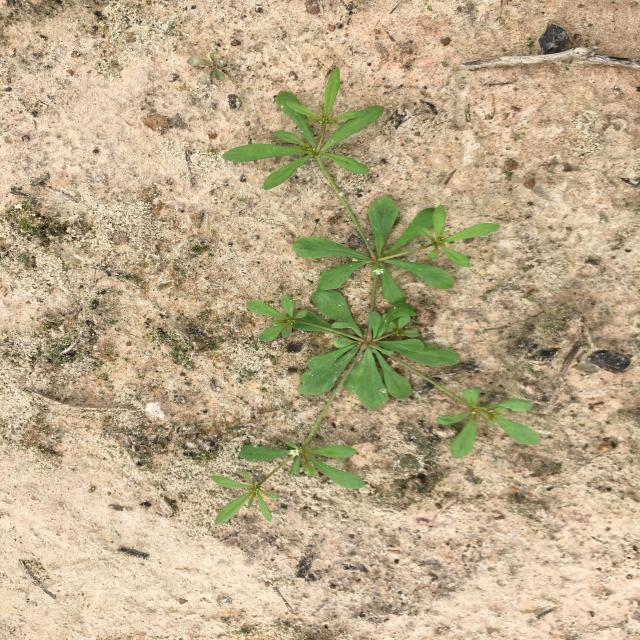Carpetweed: (210, 68, 540, 525)
